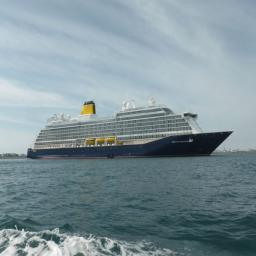cruises: (26, 95, 237, 157)
